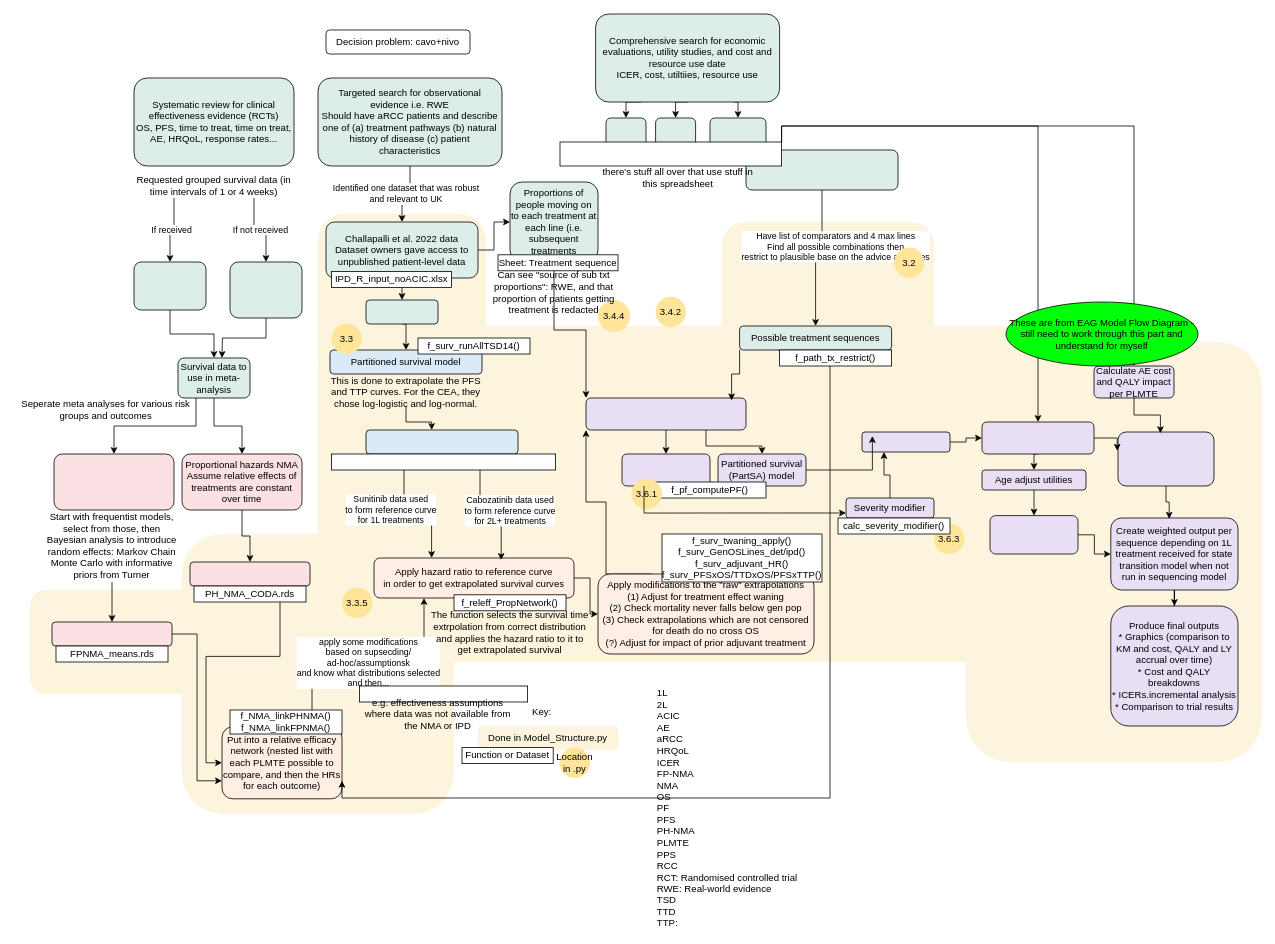
Image size: 1275x944. Some labels were removed from this diagram. Here are the shapes that lost their labels. From the top down, the box of each, then its label:
(605, 117, 646, 150): Costs
(559, 141, 782, 166): With other parameters in ID6184_RCC_model inputs....xlsm
(655, 117, 696, 150): Utilities
(709, 117, 766, 150): Resource use
(745, 149, 898, 190): Clinical advice and routine commissioning rules
(133, 261, 206, 310): Grouped survival data from company
(229, 261, 302, 318): Digitise curves to estimate the grouped survival data
(365, 299, 438, 324): Survival data
(585, 397, 746, 430): Data used in economic models/patient flow models
(365, 429, 518, 454): Output from survival analysis
(861, 431, 950, 452): Model results
(981, 421, 1094, 454): Apply utilities to disease model and apply AE QALY decrement
(331, 453, 556, 470): Survival_analysis_noTTDorTTPorPPS[NoACIC].rds
(621, 453, 710, 486): State transition (Markov) model
(1117, 431, 1214, 486): Apply costs and resources use to disease model, and add in AE costs
(53, 453, 174, 510): Fractional polynomial NMA Allows relative effects of treatment to vary over time
(989, 515, 1078, 554): Calculate and apply any severity modifier
(189, 561, 310, 586): Hazard ratios
(51, 621, 172, 646): Time-varying hazard ratios
(359, 685, 528, 702): f_NMA_AddAssumptionsToNetwork()
